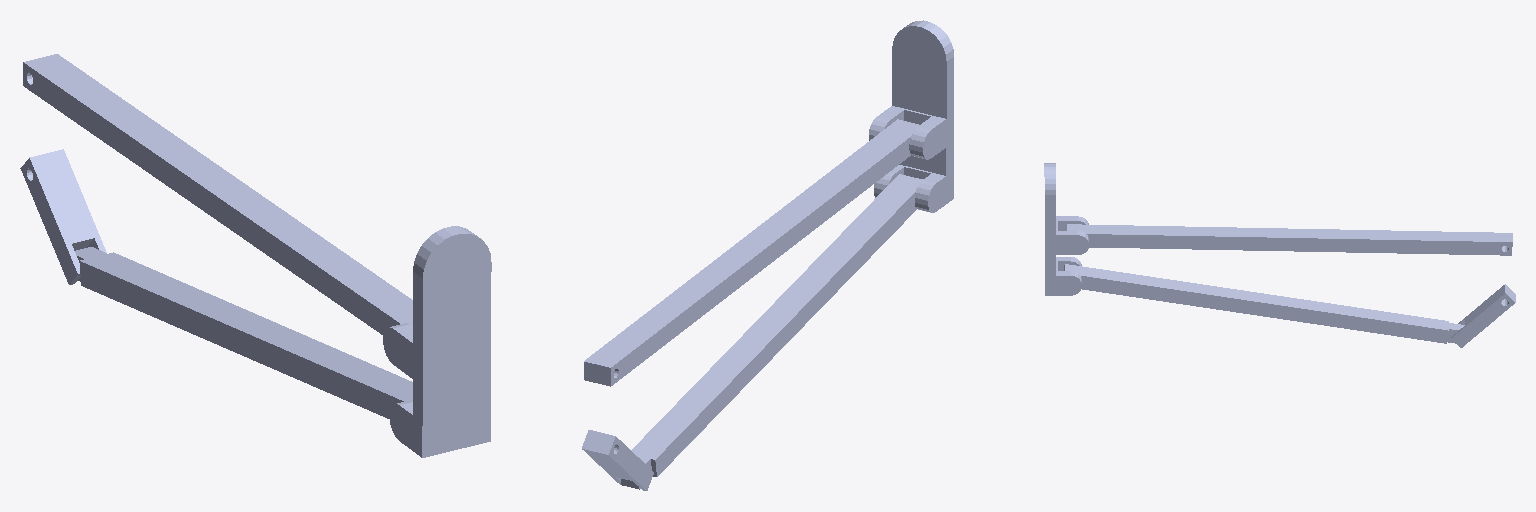
The robot description file, URDF, robot "Foot_assembly_13":
<?xml version="1.0" encoding="utf-8"?>
<!-- This URDF was automatically created by SolidWorks to URDF Exporter! Originally created by Stephen Brawner (brawner@gmail.com) 
     Commit Version: 1.6.0-4-g7f85cfe  Build Version: 1.6.7995.38578
     For more information, please see http://wiki.ros.org/sw_urdf_exporter -->
<robot
  name="Foot_assembly_13">
  <link
    name="base_link">
    <inertial>
      <origin
        xyz="0.0999999999999999 0.35333645778917 0.0589830177287209"
        rpy="0 0 0" />
      <mass
        value="1.33585398163398" />
      <inertia
        ixx="0.125078302425415"
        ixy="-2.63926427153216E-17"
        ixz="2.66105382519369E-18"
        iyy="0.0118057335703589"
        iyz="0.00190803749347008"
        izz="0.127456146362206" />
    </inertial>
    <visual>
      <origin
        xyz="0 0 0"
        rpy="0 0 0" />
      <geometry>
        <mesh
          filename="package://Foot_assembly_13/meshes/base_link.STL" />
      </geometry>
      <material
        name="">
        <color
          rgba="0.792156862745098 0.819607843137255 0.933333333333333 1" />
      </material>
    </visual>
    <collision>
      <origin
        xyz="0 0 0"
        rpy="0 0 0" />
      <geometry>
        <mesh
          filename="package://Foot_assembly_13/meshes/base_link.STL" />
      </geometry>
    </collision>
  </link>
  <link
    name="link1">
    <inertial>
      <origin
        xyz="2.77555756156289E-17 -0.289966438608896 0.00622075434176975"
        rpy="0 0 0" />
      <mass
        value="0.355287611019615" />
      <inertia
        ixx="0.0104224028504017"
        ixy="-3.28093349627538E-20"
        ixz="2.05867932271787E-22"
        iyy="4.3400773894542E-05"
        iyz="0.000222979316078503"
        izz="0.0104322952181601" />
    </inertial>
    <visual>
      <origin
        xyz="0 0 0"
        rpy="0 0 0" />
      <geometry>
        <mesh
          filename="package://Foot_assembly_13/meshes/link1.STL" />
      </geometry>
      <material
        name="">
        <color
          rgba="0.792156862745098 0.819607843137255 0.933333333333333 1" />
      </material>
    </visual>
    <collision>
      <origin
        xyz="0 0 0"
        rpy="0 0 0" />
      <geometry>
        <mesh
          filename="package://Foot_assembly_13/meshes/link1.STL" />
      </geometry>
    </collision>
  </link>
  <joint
    name="link1"
    type="revolute">
    <origin
      xyz="0.1 0.69 0.09"
      rpy="0 0 0" />
    <parent
      link="base_link" />
    <child
      link="link1" />
    <axis
      xyz="1 0 0" />
    <limit
      lower="0"
      upper="0"
      effort="0"
      velocity="0" />
  </joint>
  <link
    name="feet">
    <inertial>
      <origin
        xyz="2.44140374583424E-10 -0.0291255484736501 -0.000673207166150602"
        rpy="0 0 0" />
      <mass
        value="0.231623891688802" />
      <inertia
        ixx="0.000588958363265216"
        ixy="-1.3702588968449E-12"
        ixz="1.65937899226679E-12"
        iyy="0.000622491232439877"
        iyz="4.6154868685753E-05"
        izz="0.000127907618182916" />
    </inertial>
    <visual>
      <origin
        xyz="0 0 0"
        rpy="0 0 0" />
      <geometry>
        <mesh
          filename="package://Foot_assembly_13/meshes/feet.STL" />
      </geometry>
      <material
        name="">
        <color
          rgba="0.792156862745098 0.819607843137255 0.933333333333333 1" />
      </material>
    </visual>
    <collision>
      <origin
        xyz="0 0 0"
        rpy="0 0 0" />
      <geometry>
        <mesh
          filename="package://Foot_assembly_13/meshes/feet.STL" />
      </geometry>
    </collision>
  </link>
  <joint
    name="feet"
    type="revolute">
    <origin
      xyz="0 -0.57487 0.012333"
      rpy="0 0 0" />
    <parent
      link="link1" />
    <child
      link="feet" />
    <axis
      xyz="1 0 0" />
    <limit
      lower="0"
      upper="0"
      effort="0"
      velocity="0" />
  </joint>
  <link
    name="link2">
    <inertial>
      <origin
        xyz="5.55111512312578E-17 -0.0261185737784596 -0.0241493275140984"
        rpy="0 0 0" />
      <mass
        value="0.0492146018366025" />
      <inertia
        ixx="3.48519357754889E-05"
        ixy="-2.16349645329457E-22"
        ixz="8.00292904834396E-22"
        iyy="2.02350458453053E-05"
        iyz="-1.5715897987446E-05"
        izz="2.27015138451078E-05" />
    </inertial>
    <visual>
      <origin
        xyz="0 0 0"
        rpy="0 0 0" />
      <geometry>
        <mesh
          filename="package://Foot_assembly_13/meshes/link2.STL" />
      </geometry>
      <material
        name="">
        <color
          rgba="0.792156862745098 0.819607843137255 0.933333333333333 1" />
      </material>
    </visual>
    <collision>
      <origin
        xyz="0 0 0"
        rpy="0 0 0" />
      <geometry>
        <mesh
          filename="package://Foot_assembly_13/meshes/link2.STL" />
      </geometry>
    </collision>
  </link>
  <joint
    name="link2"
    type="revolute">
    <origin
      xyz="0.1 0.69 0.01"
      rpy="0 0 0" />
    <parent
      link="base_link" />
    <child
      link="link2" />
    <axis
      xyz="-1 0 0" />
    <limit
      lower="0"
      upper="0"
      effort="0"
      velocity="0" />
  </joint>
  <link
    name="link2.1">
    <inertial>
      <origin
        xyz="1.16573417585641E-15 -0.2678465918722 0.0441093999355223"
        rpy="0 0 0" />
      <mass
        value="0.321073009183013" />
      <inertia
        ixx="0.00770262684645028"
        ixy="6.55805198520504E-20"
        ixz="-7.86214550822142E-21"
        iyy="0.000237347011101563"
        iyz="0.00123152184139184"
        izz="0.00751273835308674" />
    </inertial>
    <visual>
      <origin
        xyz="0 0 0"
        rpy="0 0 0" />
      <geometry>
        <mesh
          filename="package://Foot_assembly_13/meshes/link2.1.STL" />
      </geometry>
      <material
        name="">
        <color
          rgba="0.792156862745098 0.819607843137255 0.933333333333333 1" />
      </material>
    </visual>
    <collision>
      <origin
        xyz="0 0 0"
        rpy="0 0 0" />
      <geometry>
        <mesh
          filename="package://Foot_assembly_13/meshes/link2.1.STL" />
      </geometry>
    </collision>
  </link>
  <joint
    name="revolving"
    type="revolute">
    <origin
      xyz="0 -0.05874 -0.054311"
      rpy="0 0 0" />
    <parent
      link="link2" />
    <child
      link="link2.1" />
    <axis
      xyz="1 0 0" />
    <limit
      lower="0"
      upper="0"
      effort="0"
      velocity="0" />
  </joint>
</robot>

--- Render facts (derived) ---
3 views of the same robot in one strip: view 1: azimuth 30°, elevation 25°; view 2: azimuth 150°, elevation 25°; view 3: azimuth 270°, elevation 25° (orthographic).
Model Foot_assembly_13 with 5 links and 4 joints (4 revolute), rooted at base_link, posed every joint at zero.
Links seen in each view (by area): view 1: link1, feet, link2.1, link2; view 2: link1, link2.1, feet, link2; view 3: link1, link2.1, feet, link2.
Boxes of the visible links, <box> form: link1: <box>23,54,412,334</box>; feet: <box>383,226,491,457</box>; link2.1: <box>75,247,412,418</box>; link2: <box>20,149,106,284</box>; link1: <box>584,119,918,386</box>; link2.1: <box>621,174,922,489</box>; feet: <box>869,20,953,212</box>; link2: <box>582,430,653,490</box>; link1: <box>1067,224,1512,255</box>; link2.1: <box>1064,264,1464,343</box>; feet: <box>1044,163,1088,295</box>; link2: <box>1451,284,1515,347</box>.
Bounding box of the posed robot: 0.06 × 0.6344 × 0.2654 m (x, y, z).
Meshes: 5 distinct files referenced, 4 mesh visuals loaded (4 binary STL); not drawn: 1 (reference not matched to a file when rendering).
